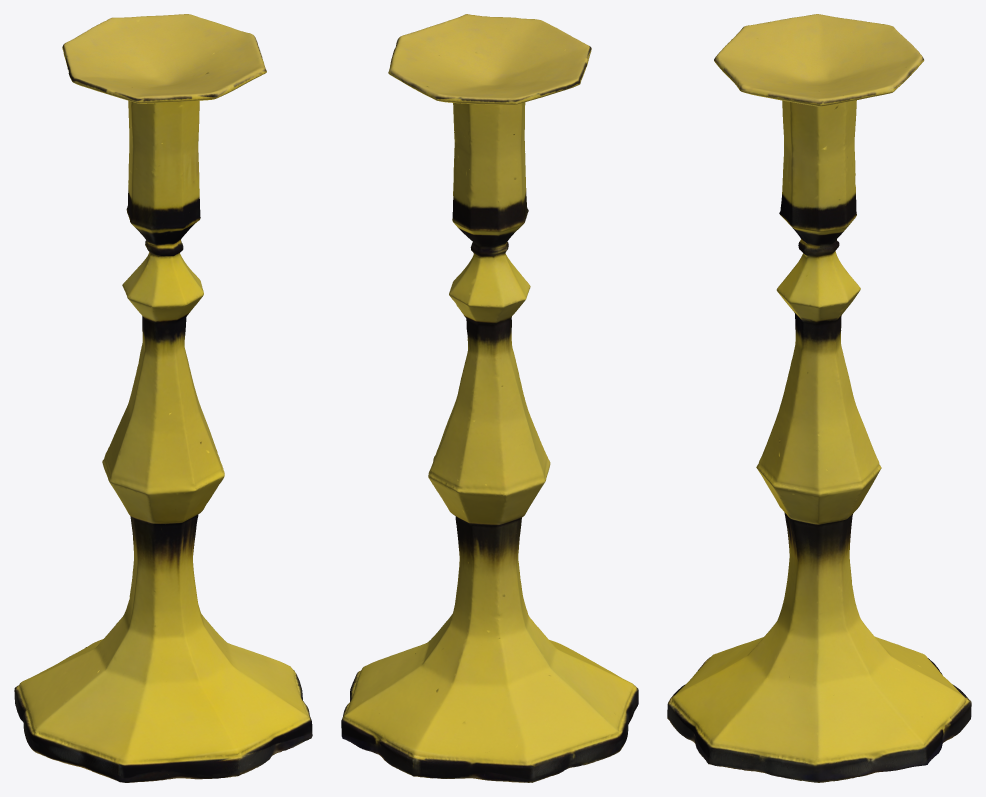
File: Meshy_AI_Golden_Hourglass_0429163926_texture.fbx
3 renders of one model, left to right at view 1: azimuth 30°, elevation 25°; view 2: azimuth 150°, elevation 25°; view 3: azimuth 270°, elevation 25°, orthographic.
Visible parts, largest first — view 1: Mesh_0; view 2: Mesh_0; view 3: Mesh_0.
Boxes of the visible parts, left/top/right/bottom form: Mesh_0: left=14, top=14, right=312, bottom=782; Mesh_0: left=341, top=14, right=638, bottom=782; Mesh_0: left=667, top=14, right=971, bottom=782.
Size of the model in its own units: 82.3 by 200 by 83.03.
Materials: 1 (1 with a texture image).
